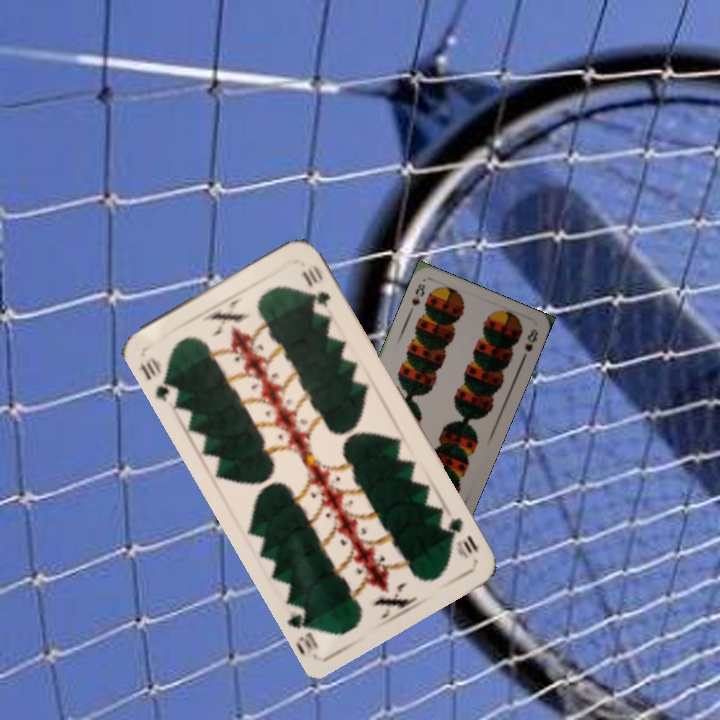G10: (135, 353, 177, 405), (443, 514, 482, 562)
S8: (407, 279, 428, 308)
